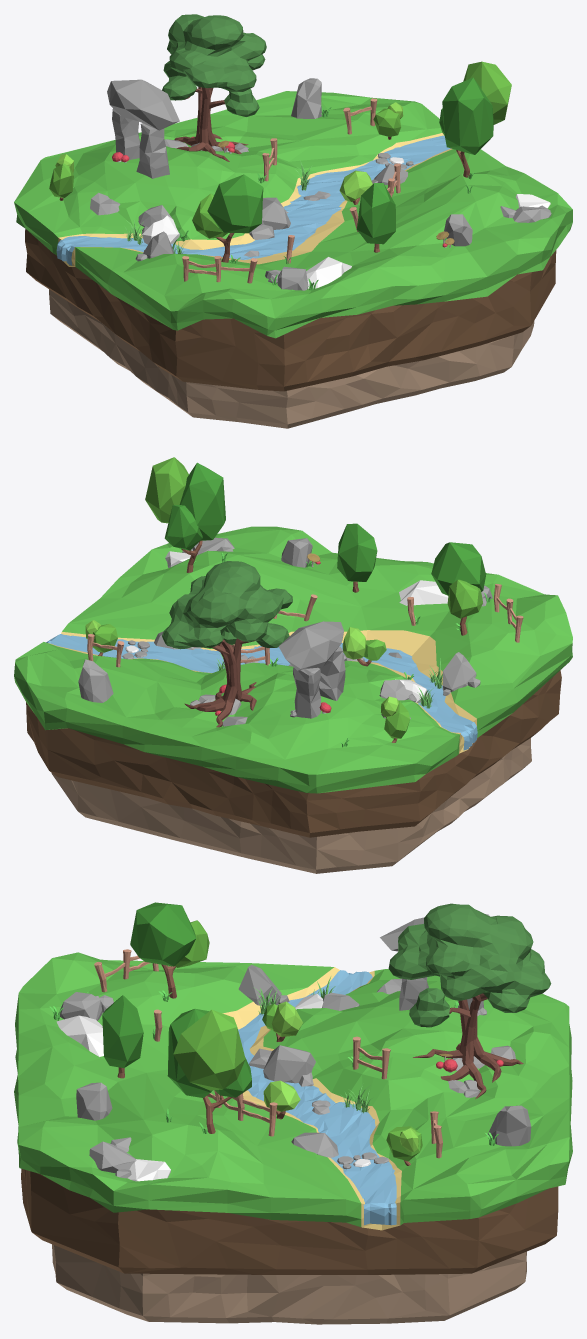
The model's file is River.glb.
The picture shows the model from 3 angles, top to bottom: view 1: azimuth 30°, elevation 25°; view 2: azimuth 150°, elevation 25°; view 3: azimuth 270°, elevation 25°; orthographic projection. The views are drawn at different scales.
Parts seen in each view (by area): view 1: Plane.001, Cube.002, Cube.003, Mball.016, Plane.003, Cube, Cube.030, Cube.035, Icosphere.019, Icosphere.012, Cube.041, Icosphere.008 (+7 smaller); view 2: Plane.001, Cube.002, Cube.003, Mball.016, Cube.030, Plane.003, Cube, Cube.035, Icosphere.019, Icosphere.012, Cube.031, Cube.041 (+5 smaller); view 3: Plane.001, Cube.002, Cube.003, Mball.016, Plane.003, Cube.030, Cube.035, Icosphere.019, Cube.008, Icosphere.012, Cube, Icosphere.008 (+12 smaller).
Boxes of the visible parts, x1,y1,x2,y2 form: Plane.001: (14,91,572,338); Cube.002: (25,229,556,391); Cube.003: (49,289,534,428); Mball.016: (162,14,266,161); Plane.003: (56,135,450,265); Cube: (107,79,179,178); Cube.030: (439,61,511,177); Cube.035: (192,174,263,262); Icosphere.019: (356,183,395,252); Icosphere.012: (291,78,321,118); Cube.041: (49,154,73,200); Icosphere.008: (306,257,351,288); Plane.001: (14,526,572,793); Cube.002: (26,670,561,837); Cube.003: (51,738,531,873); Mball.016: (162,561,292,727); Cube.030: (145,457,225,572); Plane.003: (46,634,477,750); Cube: (278,621,345,718); Cube.035: (431,542,486,635); Icosphere.019: (337,523,377,592); Icosphere.012: (78,659,113,702); Cube.031: (342,627,386,666); Cube.041: (381,696,409,742); Plane.001: (14,952,572,1230); Cube.002: (21,1168,558,1274); Cube.003: (52,1244,526,1324); Mball.016: (388,903,551,1098); Plane.003: (238,970,396,1225); Cube.030: (167,1008,251,1133); Cube.035: (130,902,209,998); Icosphere.019: (102,995,143,1078); Cube.008: (263,1045,315,1083); Icosphere.012: (488,1105,531,1146); Cube: (380,914,489,1010); Icosphere.008: (56,1015,103,1056).
Bounding box in the file's own units: 16.38 × 9.97 × 16.24.
